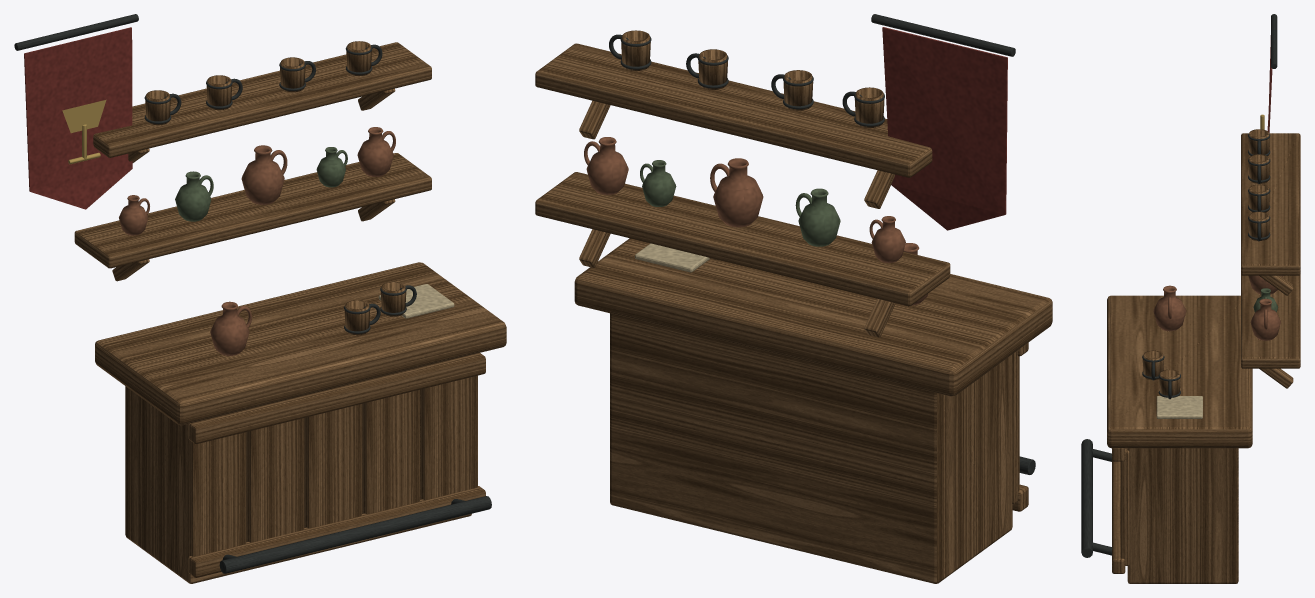
The model's file is tavern-bar.glb.
3 renders of one model, left to right at view 1: azimuth 30°, elevation 25°; view 2: azimuth 150°, elevation 25°; view 3: azimuth 270°, elevation 25°, orthographic. The views are drawn at different scales.
Parts seen in each view (by area): view 1: tavern-bar - Tavern honey oak joinery runtime PBR, tavern-bar - Tavern aged timber framing runtime PBR, tavern-bar - Tavern faded oxblood wool runtime PBR, tavern-bar - Tavern forged black iron runtime PBR, tavern-bar - Tavern salt glazed brown jug runtime PBR, tavern-bar - Tavern olive glazed stoneware runtime PBR, tavern-bar - Tavern worn brass fittings runtime PBR, tavern-bar - Tavern oatmeal linen runtime PBR; view 2: tavern-bar - Tavern aged timber framing runtime PBR, tavern-bar - Tavern honey oak joinery runtime PBR, tavern-bar - Tavern faded oxblood wool runtime PBR, tavern-bar - Tavern salt glazed brown jug runtime PBR, tavern-bar - Tavern forged black iron runtime PBR, tavern-bar - Tavern olive glazed stoneware runtime PBR, tavern-bar - Tavern oatmeal linen runtime PBR; view 3: tavern-bar - Tavern honey oak joinery runtime PBR, tavern-bar - Tavern aged timber framing runtime PBR, tavern-bar - Tavern forged black iron runtime PBR, tavern-bar - Tavern salt glazed brown jug runtime PBR, tavern-bar - Tavern oatmeal linen runtime PBR.
Part boxes in pixels (left/top/right/bottom): tavern-bar - Tavern honey oak joinery runtime PBR: left=74, top=41, right=506, bottom=557; tavern-bar - Tavern aged timber framing runtime PBR: left=112, top=88, right=485, bottom=583; tavern-bar - Tavern faded oxblood wool runtime PBR: left=24, top=27, right=132, bottom=209; tavern-bar - Tavern forged black iron runtime PBR: left=14, top=14, right=491, bottom=573; tavern-bar - Tavern salt glazed brown jug runtime PBR: left=119, top=127, right=395, bottom=355; tavern-bar - Tavern olive glazed stoneware runtime PBR: left=175, top=147, right=347, bottom=221; tavern-bar - Tavern worn brass fittings runtime PBR: left=62, top=99, right=106, bottom=164; tavern-bar - Tavern oatmeal linen runtime PBR: left=378, top=284, right=454, bottom=318; tavern-bar - Tavern aged timber framing runtime PBR: left=579, top=100, right=1028, bottom=583; tavern-bar - Tavern honey oak joinery runtime PBR: left=535, top=30, right=1052, bottom=503; tavern-bar - Tavern faded oxblood wool runtime PBR: left=882, top=27, right=1007, bottom=230; tavern-bar - Tavern salt glazed brown jug runtime PBR: left=584, top=137, right=927, bottom=305; tavern-bar - Tavern forged black iron runtime PBR: left=609, top=14, right=1035, bottom=474; tavern-bar - Tavern olive glazed stoneware runtime PBR: left=640, top=160, right=840, bottom=246; tavern-bar - Tavern oatmeal linen runtime PBR: left=635, top=243, right=710, bottom=272; tavern-bar - Tavern honey oak joinery runtime PBR: left=1107, top=129, right=1300, bottom=565; tavern-bar - Tavern aged timber framing runtime PBR: left=1112, top=275, right=1293, bottom=583; tavern-bar - Tavern forged black iron runtime PBR: left=1081, top=14, right=1277, bottom=557; tavern-bar - Tavern salt glazed brown jug runtime PBR: left=1153, top=275, right=1282, bottom=340; tavern-bar - Tavern oatmeal linen runtime PBR: left=1156, top=396, right=1202, bottom=418.
Bounding box in the file's own units: 2.33 × 2.8 × 1.32.
8 materials, 7 textured.
